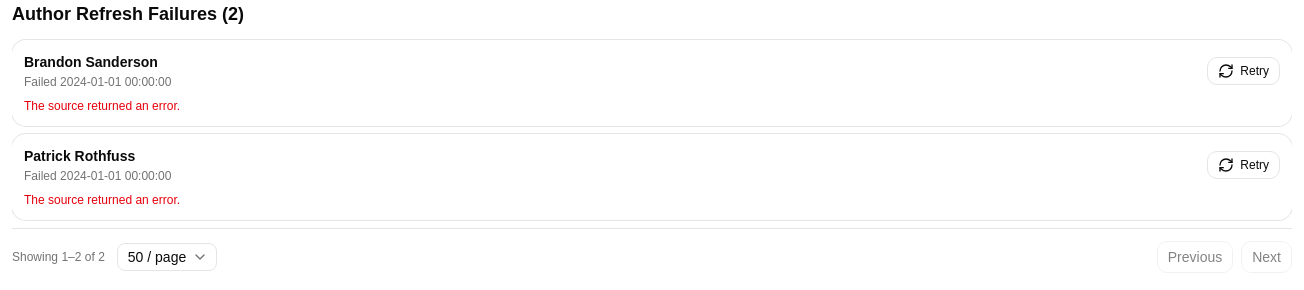
Scenario: AuthorConsistencyIssueList › keeps another row's pending state when an earlier retry succeeds
Click the button "Retry" in the row of "Brandon Sanderson": (1244,71) [1207,57,1280,85]
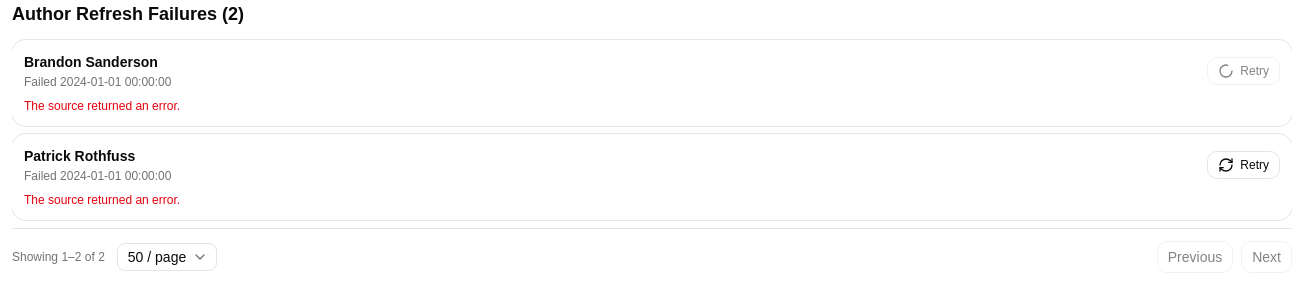
Click the button "Retry" in the row of "Patrick Rothfuss": (1244,165) [1207,151,1280,179]
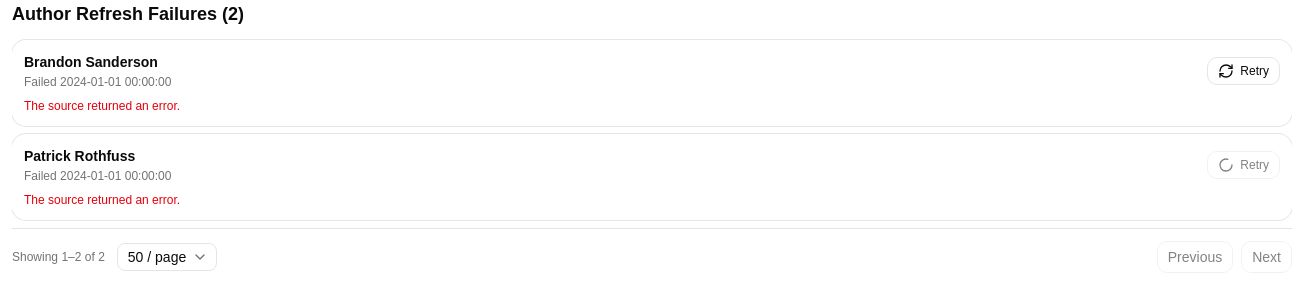
Expected: the button "Retry" in the row of "Patrick Rothfuss" is disabled, [1207,151,1280,179]
